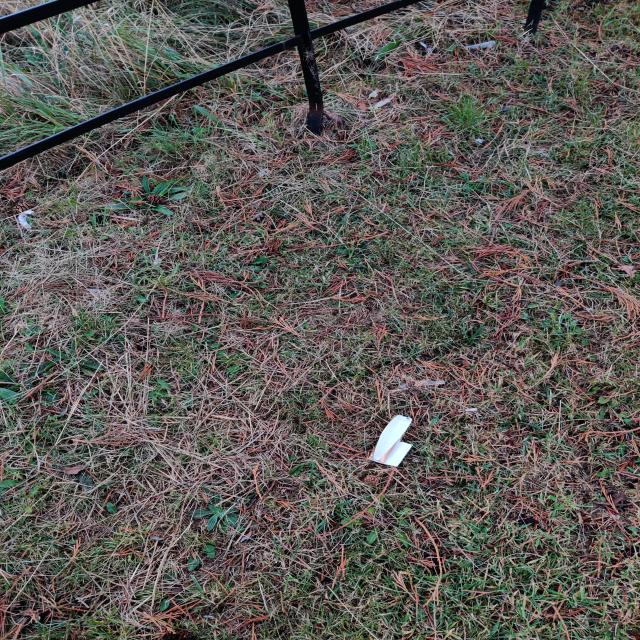litter: (364, 414, 415, 468), (399, 379, 448, 389)
